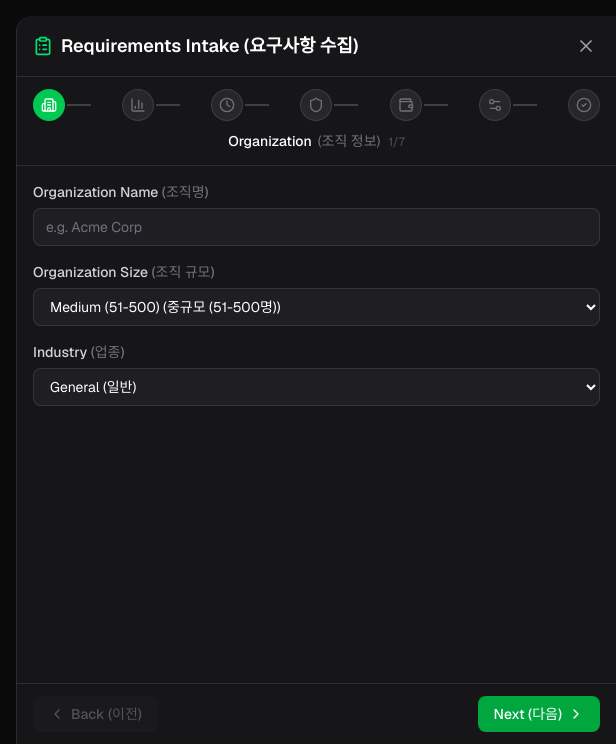
Scenario: RequirementsWizardPanel › navigates backward on Back click
Click the button "Next (다음)" at (539, 714), box x1=478 y1=696 x2=600 y2=732
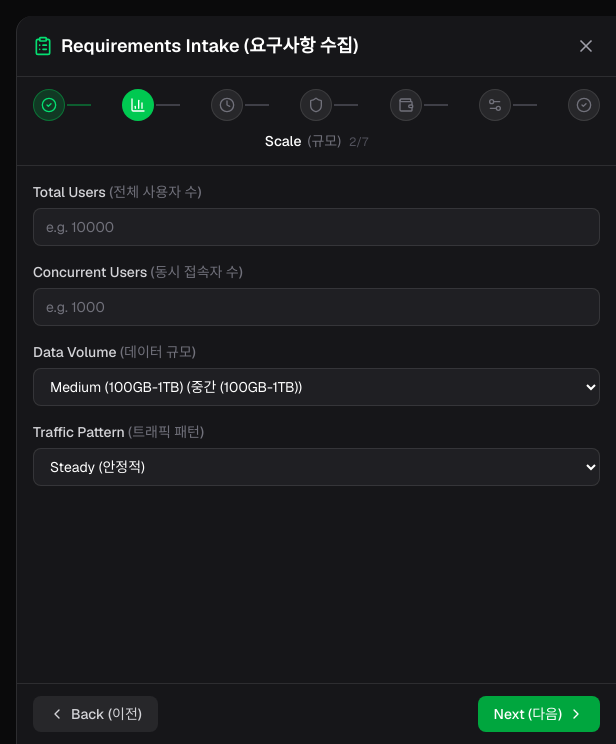
Expected: the text "2/7" is shown, x1=349 y1=134 x2=368 y2=150
Click the button "Back (이전)" at (95, 714), box x1=33 y1=696 x2=158 y2=732
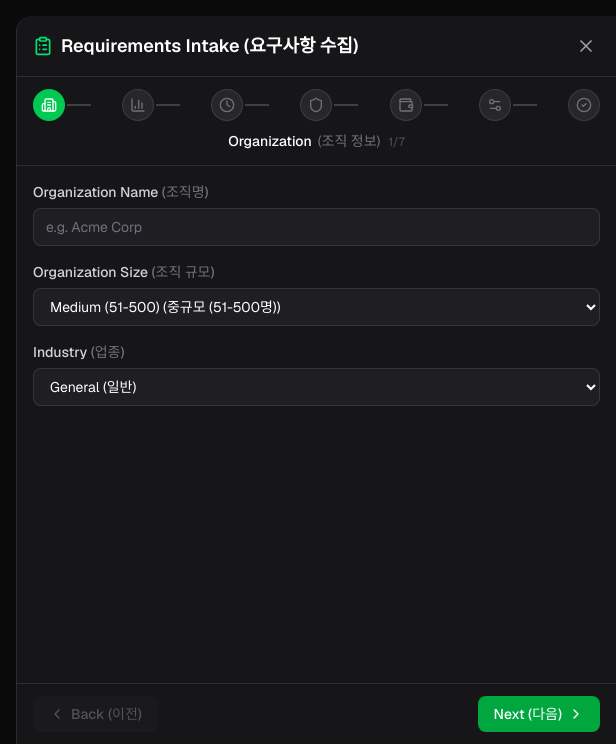
Expected: the text "1/7" is shown, x1=388 y1=134 x2=405 y2=150
Expected: the text "Organization Name (조직명)" is shown, x1=33 y1=183 x2=209 y2=201
